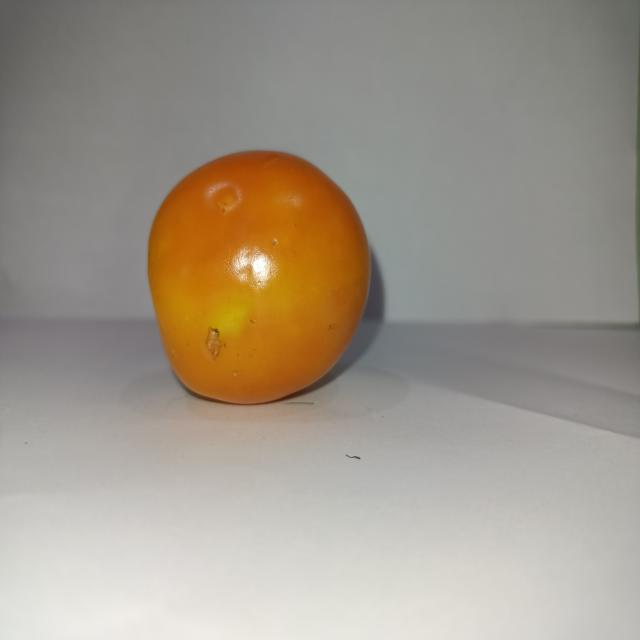Red: (145, 148, 372, 405)
